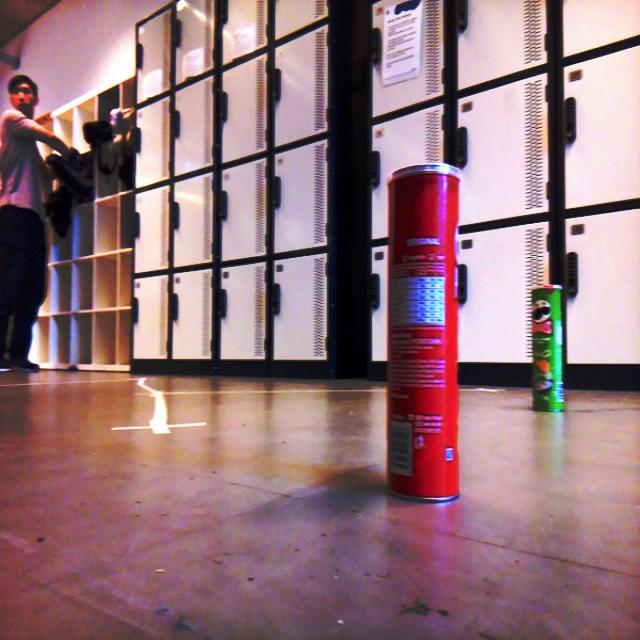greenpringles: (525, 272, 571, 418)
redpringles: (374, 156, 467, 513)
